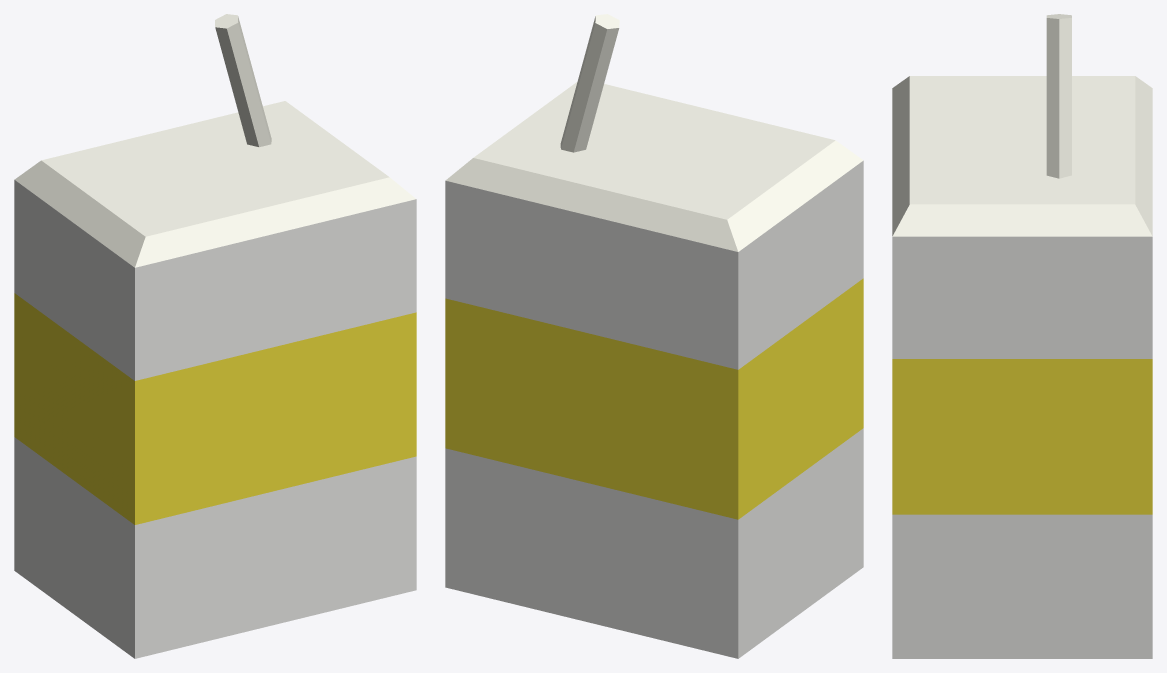
Rendered from Waste_JuiceBox.fbx.
The picture shows the model from 3 angles, left to right: view 1: azimuth 30°, elevation 25°; view 2: azimuth 150°, elevation 25°; view 3: azimuth 270°, elevation 25°; orthographic projection. The views are drawn at different scales.
Visible parts, largest first — view 1: Waste_JuiceBox; view 2: Waste_JuiceBox; view 3: Waste_JuiceBox.
Part boxes in pixels (x1,y1,x2,y2): Waste_JuiceBox: [14, 14, 416, 658]; Waste_JuiceBox: [445, 14, 863, 658]; Waste_JuiceBox: [892, 14, 1152, 658].
Size of the model in its own units: 0.2864 by 0.5277 by 0.2121.
